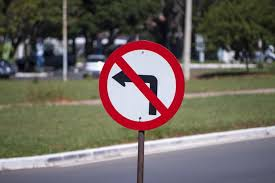No_left_turn: (99, 40, 184, 130)
